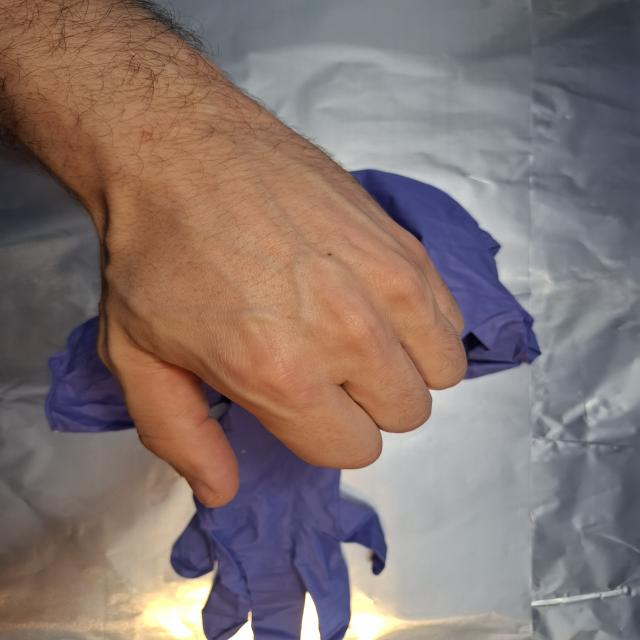glove_off: (61, 103, 472, 510)
